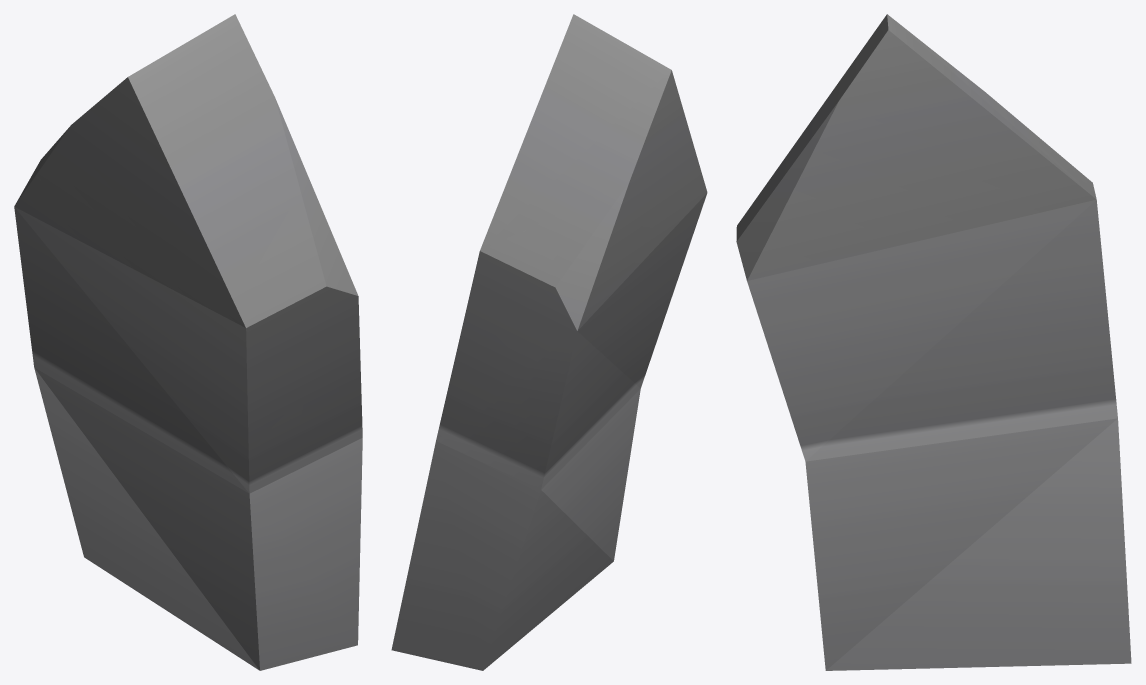
File: ea_grave_stone_mini_01c_pre__10__1_lev1.glb
The picture shows the model from 3 angles, left to right: view 1: azimuth 30°, elevation 25°; view 2: azimuth 150°, elevation 25°; view 3: azimuth 270°, elevation 25°; orthographic projection. The views are drawn at different scales.
Visible parts, largest first — view 1: ea_grave_stone_mini_01c_pre__10__1_lev1; view 2: ea_grave_stone_mini_01c_pre__10__1_lev1; view 3: ea_grave_stone_mini_01c_pre__10__1_lev1.
Boxes of the visible parts, x1,y1,x2,y2 form: ea_grave_stone_mini_01c_pre__10__1_lev1: [14, 14, 362, 670]; ea_grave_stone_mini_01c_pre__10__1_lev1: [391, 14, 707, 670]; ea_grave_stone_mini_01c_pre__10__1_lev1: [736, 14, 1131, 670].
Size of the model in its own units: 0.4573 by 1.36 by 0.8095.
Materials: 1 (1 with a texture image).
